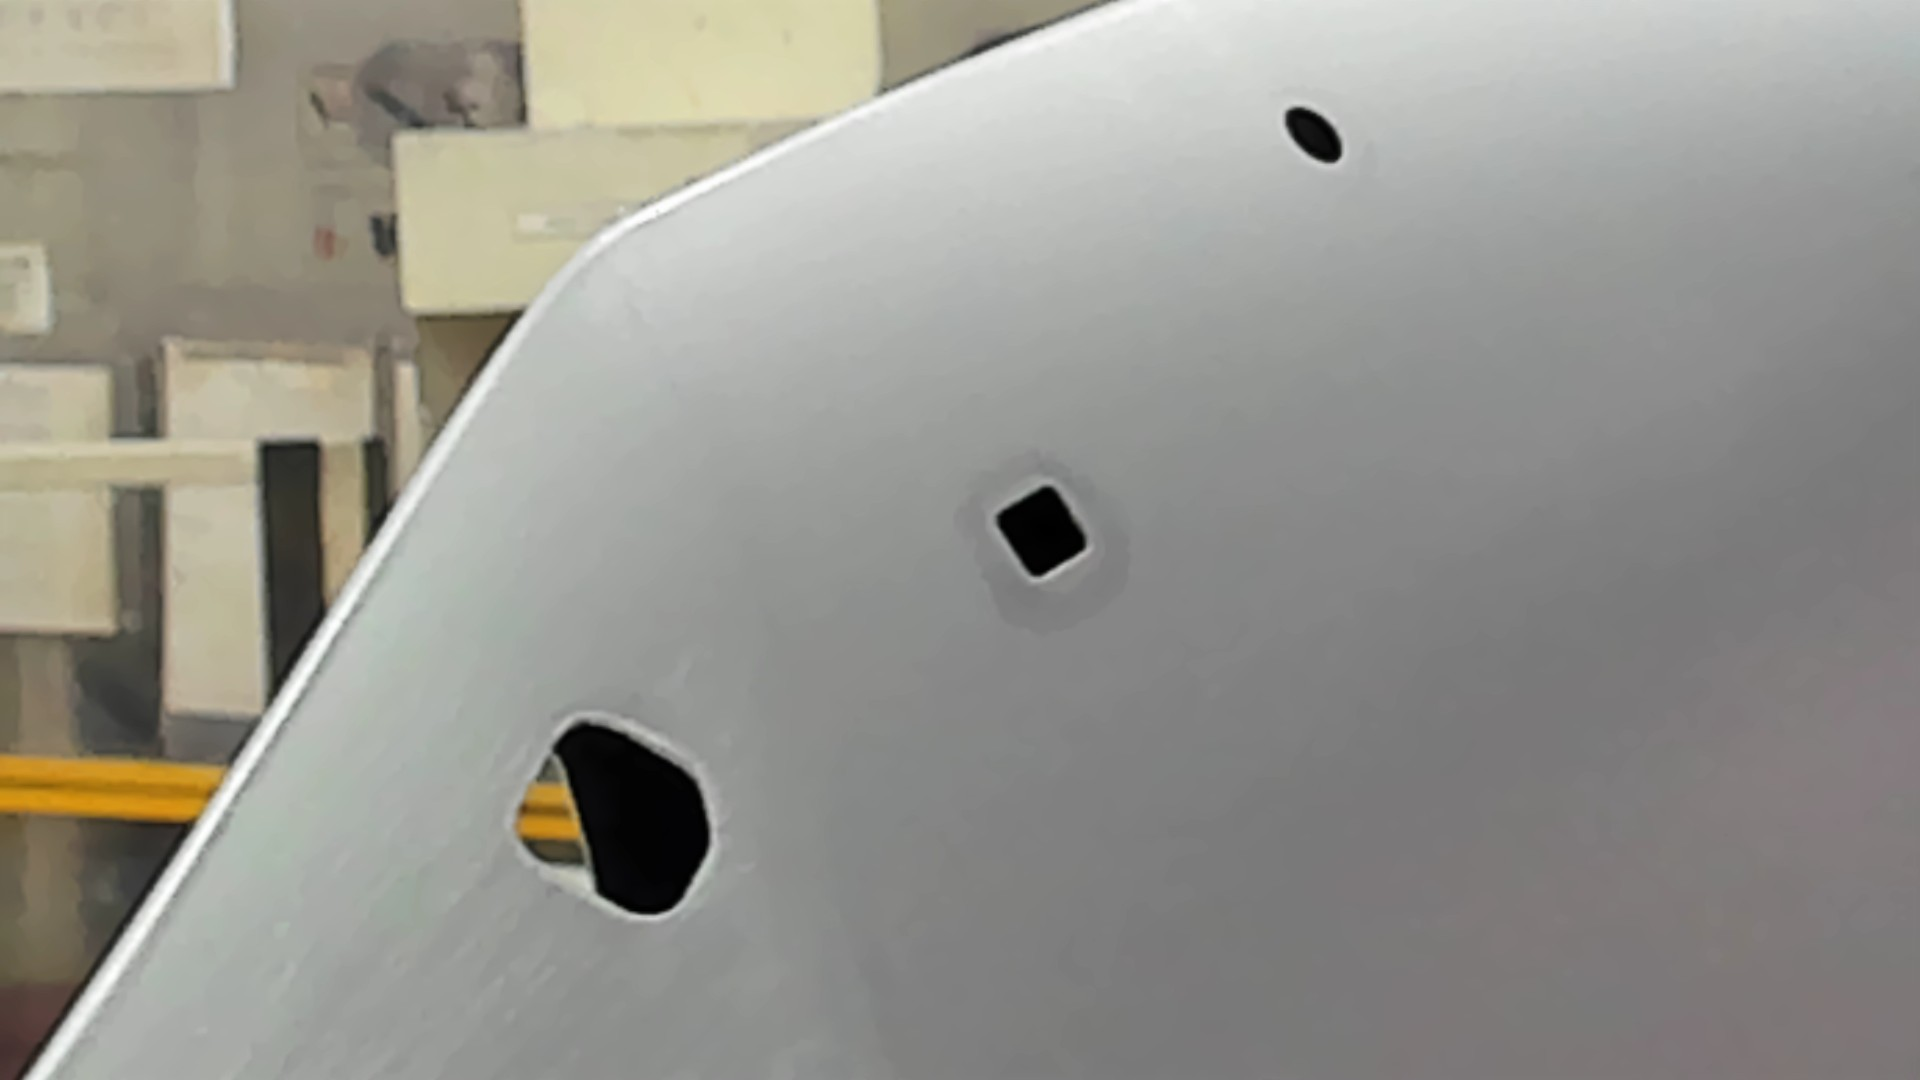chico: (1278, 99, 1346, 170)
grande: (506, 708, 725, 927)
mediano: (988, 473, 1097, 585)
